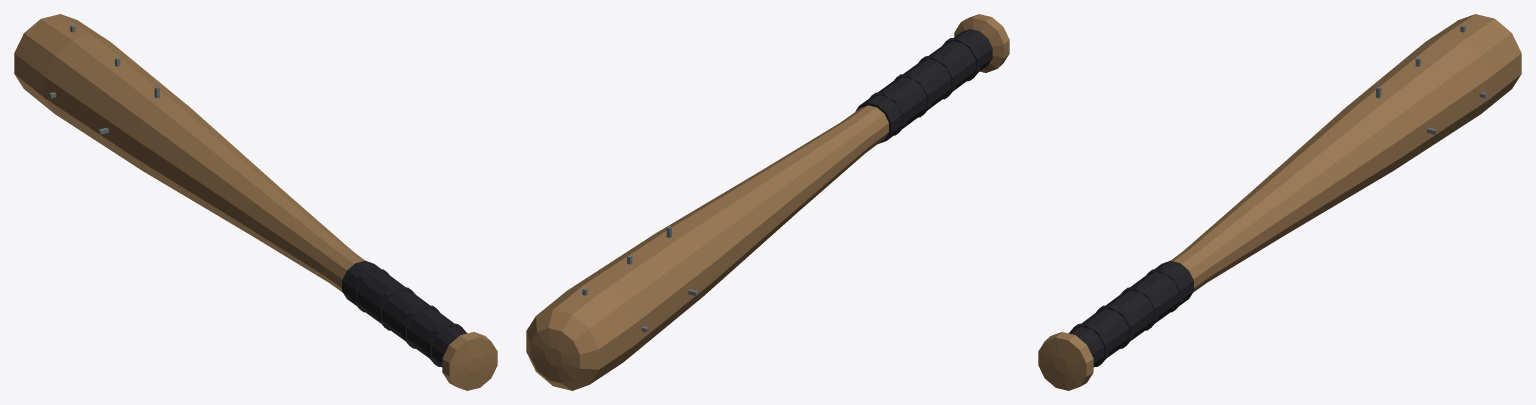
The model's file is bat.glb.
3 views of the same model, side by side, from view 1: azimuth 30°, elevation 25°; view 2: azimuth 150°, elevation 25°; view 3: azimuth 330°, elevation 25° (orthographic).
Visible parts, largest first — view 1: bat; view 2: bat; view 3: bat.
Boxes of the visible parts, box(x1,y1,x2,y2) form: bat: box(14, 14, 497, 390); bat: box(526, 14, 1009, 390); bat: box(1038, 14, 1521, 390).
Bounding box in the file's own units: 0.1 × 0.1 × 0.873.
1 material, 1 textured.
